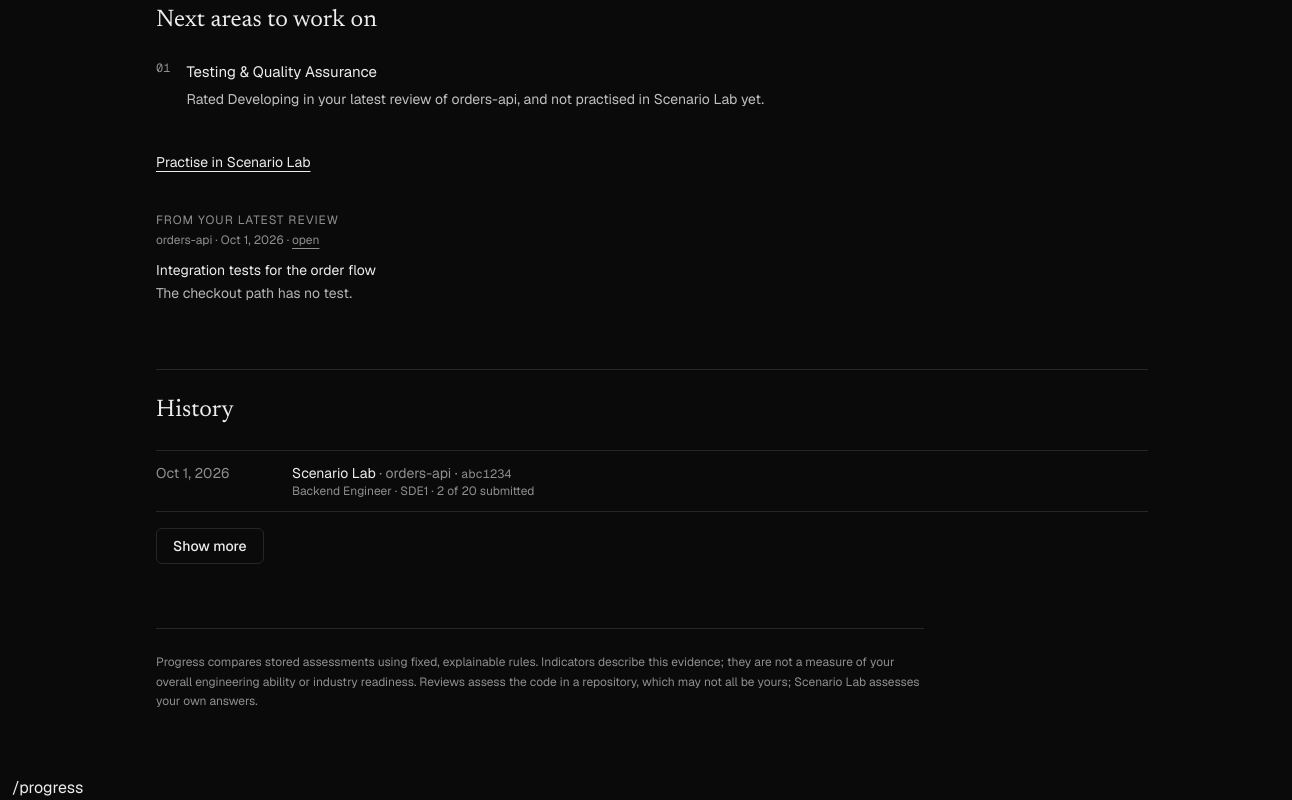
it: history lists reviews and labs with links and loads more on request
(page scrolled)
Expected: the link "Scenario Lab · orders-api" shows "Backend Engineer · SDE1 · 2 of 20 submitted", [156,464,534,499]
Step 1. Click the button "Show more" → (210, 546), box [156,528,264,564]
(page scrolled)
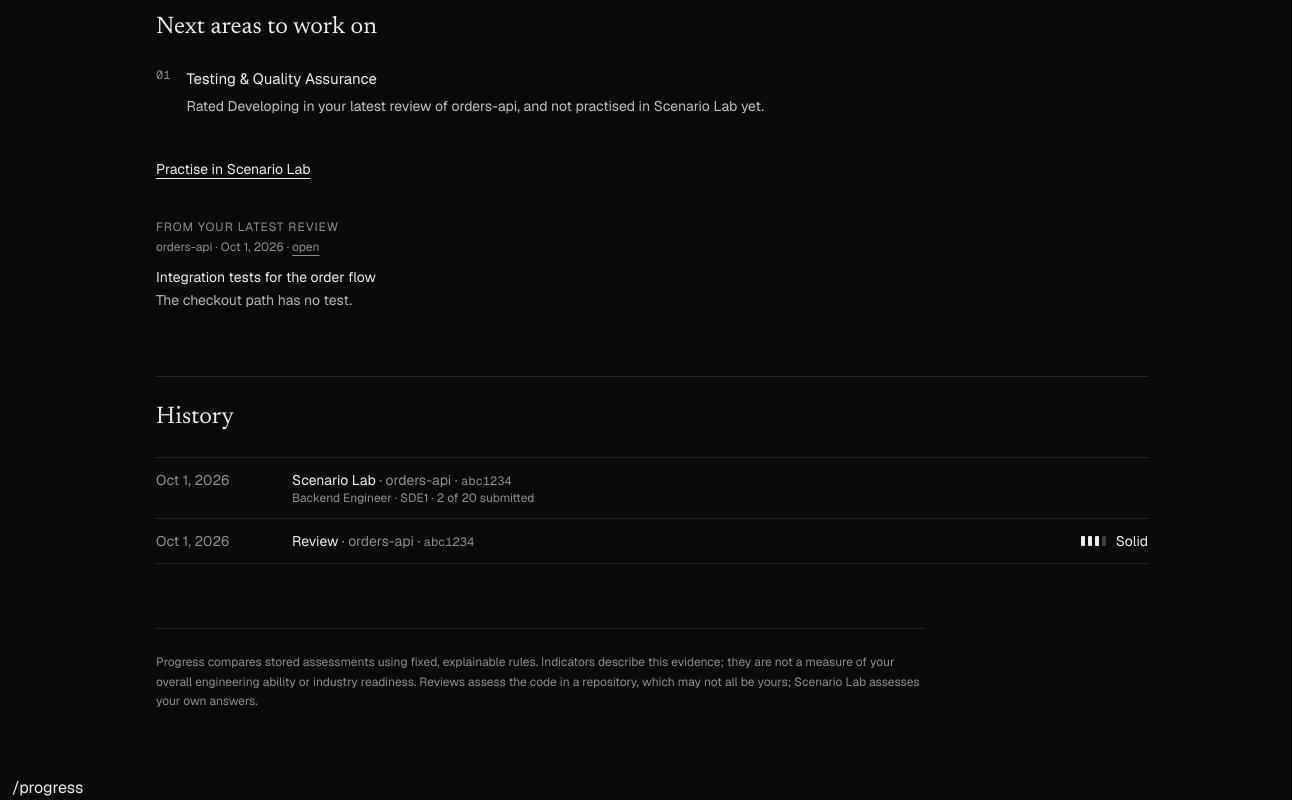
Expected: the button "Show more" is gone
